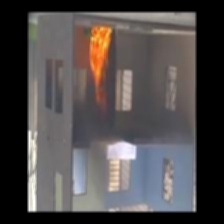fire: (82, 20, 113, 97)
